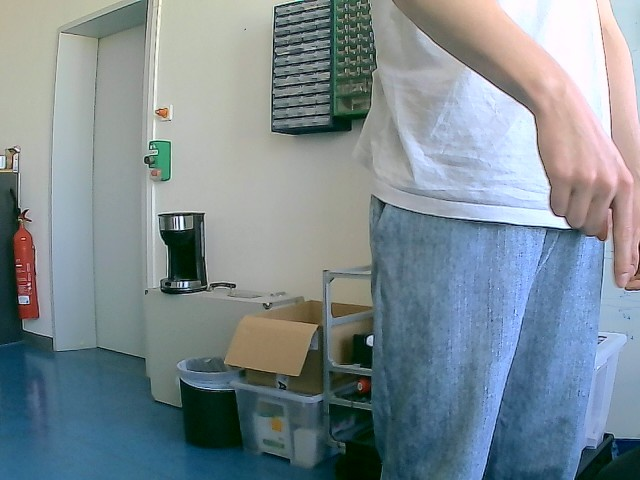down: (533, 96, 637, 290)
